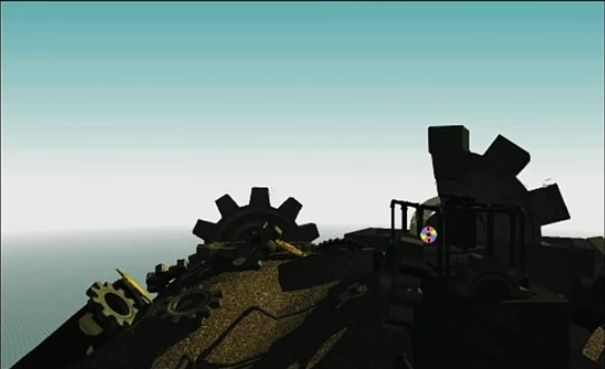Waiting: (416, 223, 441, 245)
